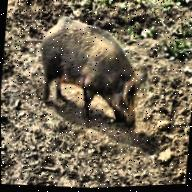boar: (30, 11, 162, 141)
